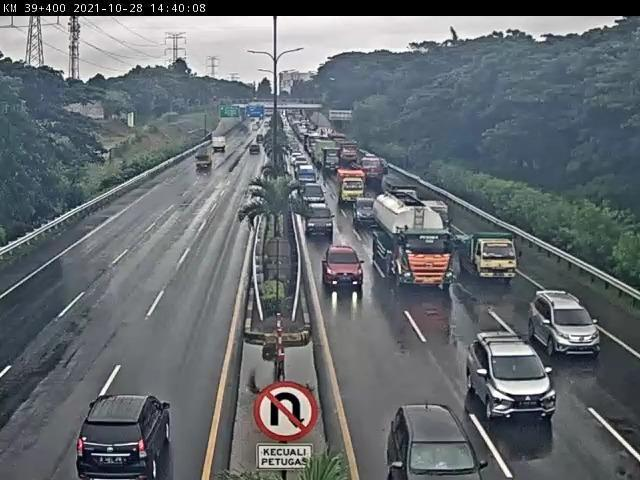car: (464, 333, 558, 422), (76, 394, 172, 480), (384, 404, 485, 480), (527, 288, 603, 360), (321, 241, 365, 286), (353, 196, 381, 227), (306, 203, 333, 232), (301, 182, 322, 202)
truck: (375, 192, 455, 291), (460, 229, 523, 283), (415, 192, 447, 227), (334, 164, 362, 198)
